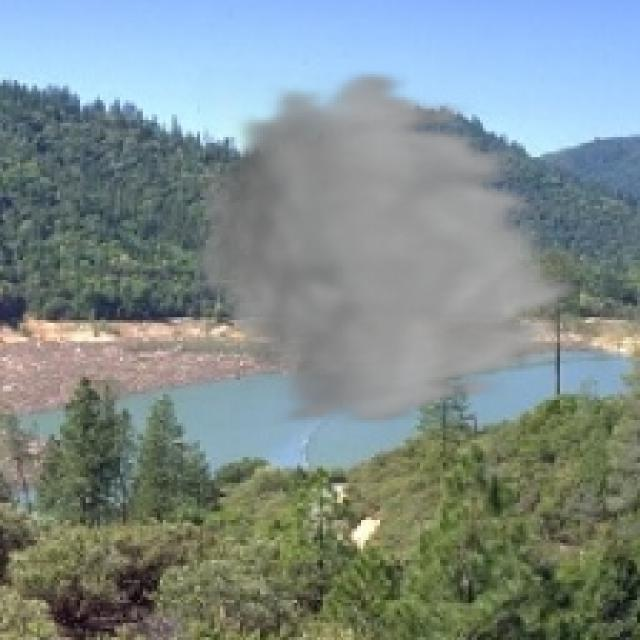smoke: (186, 66, 594, 428)
